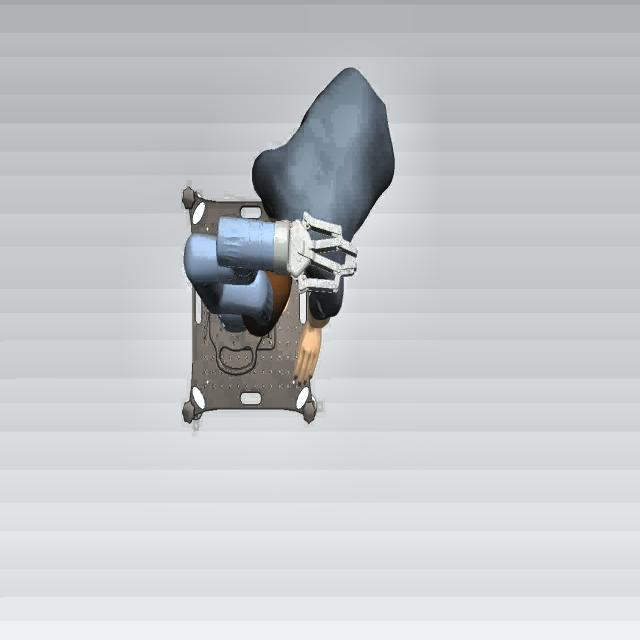robot: (178, 192, 364, 338)
